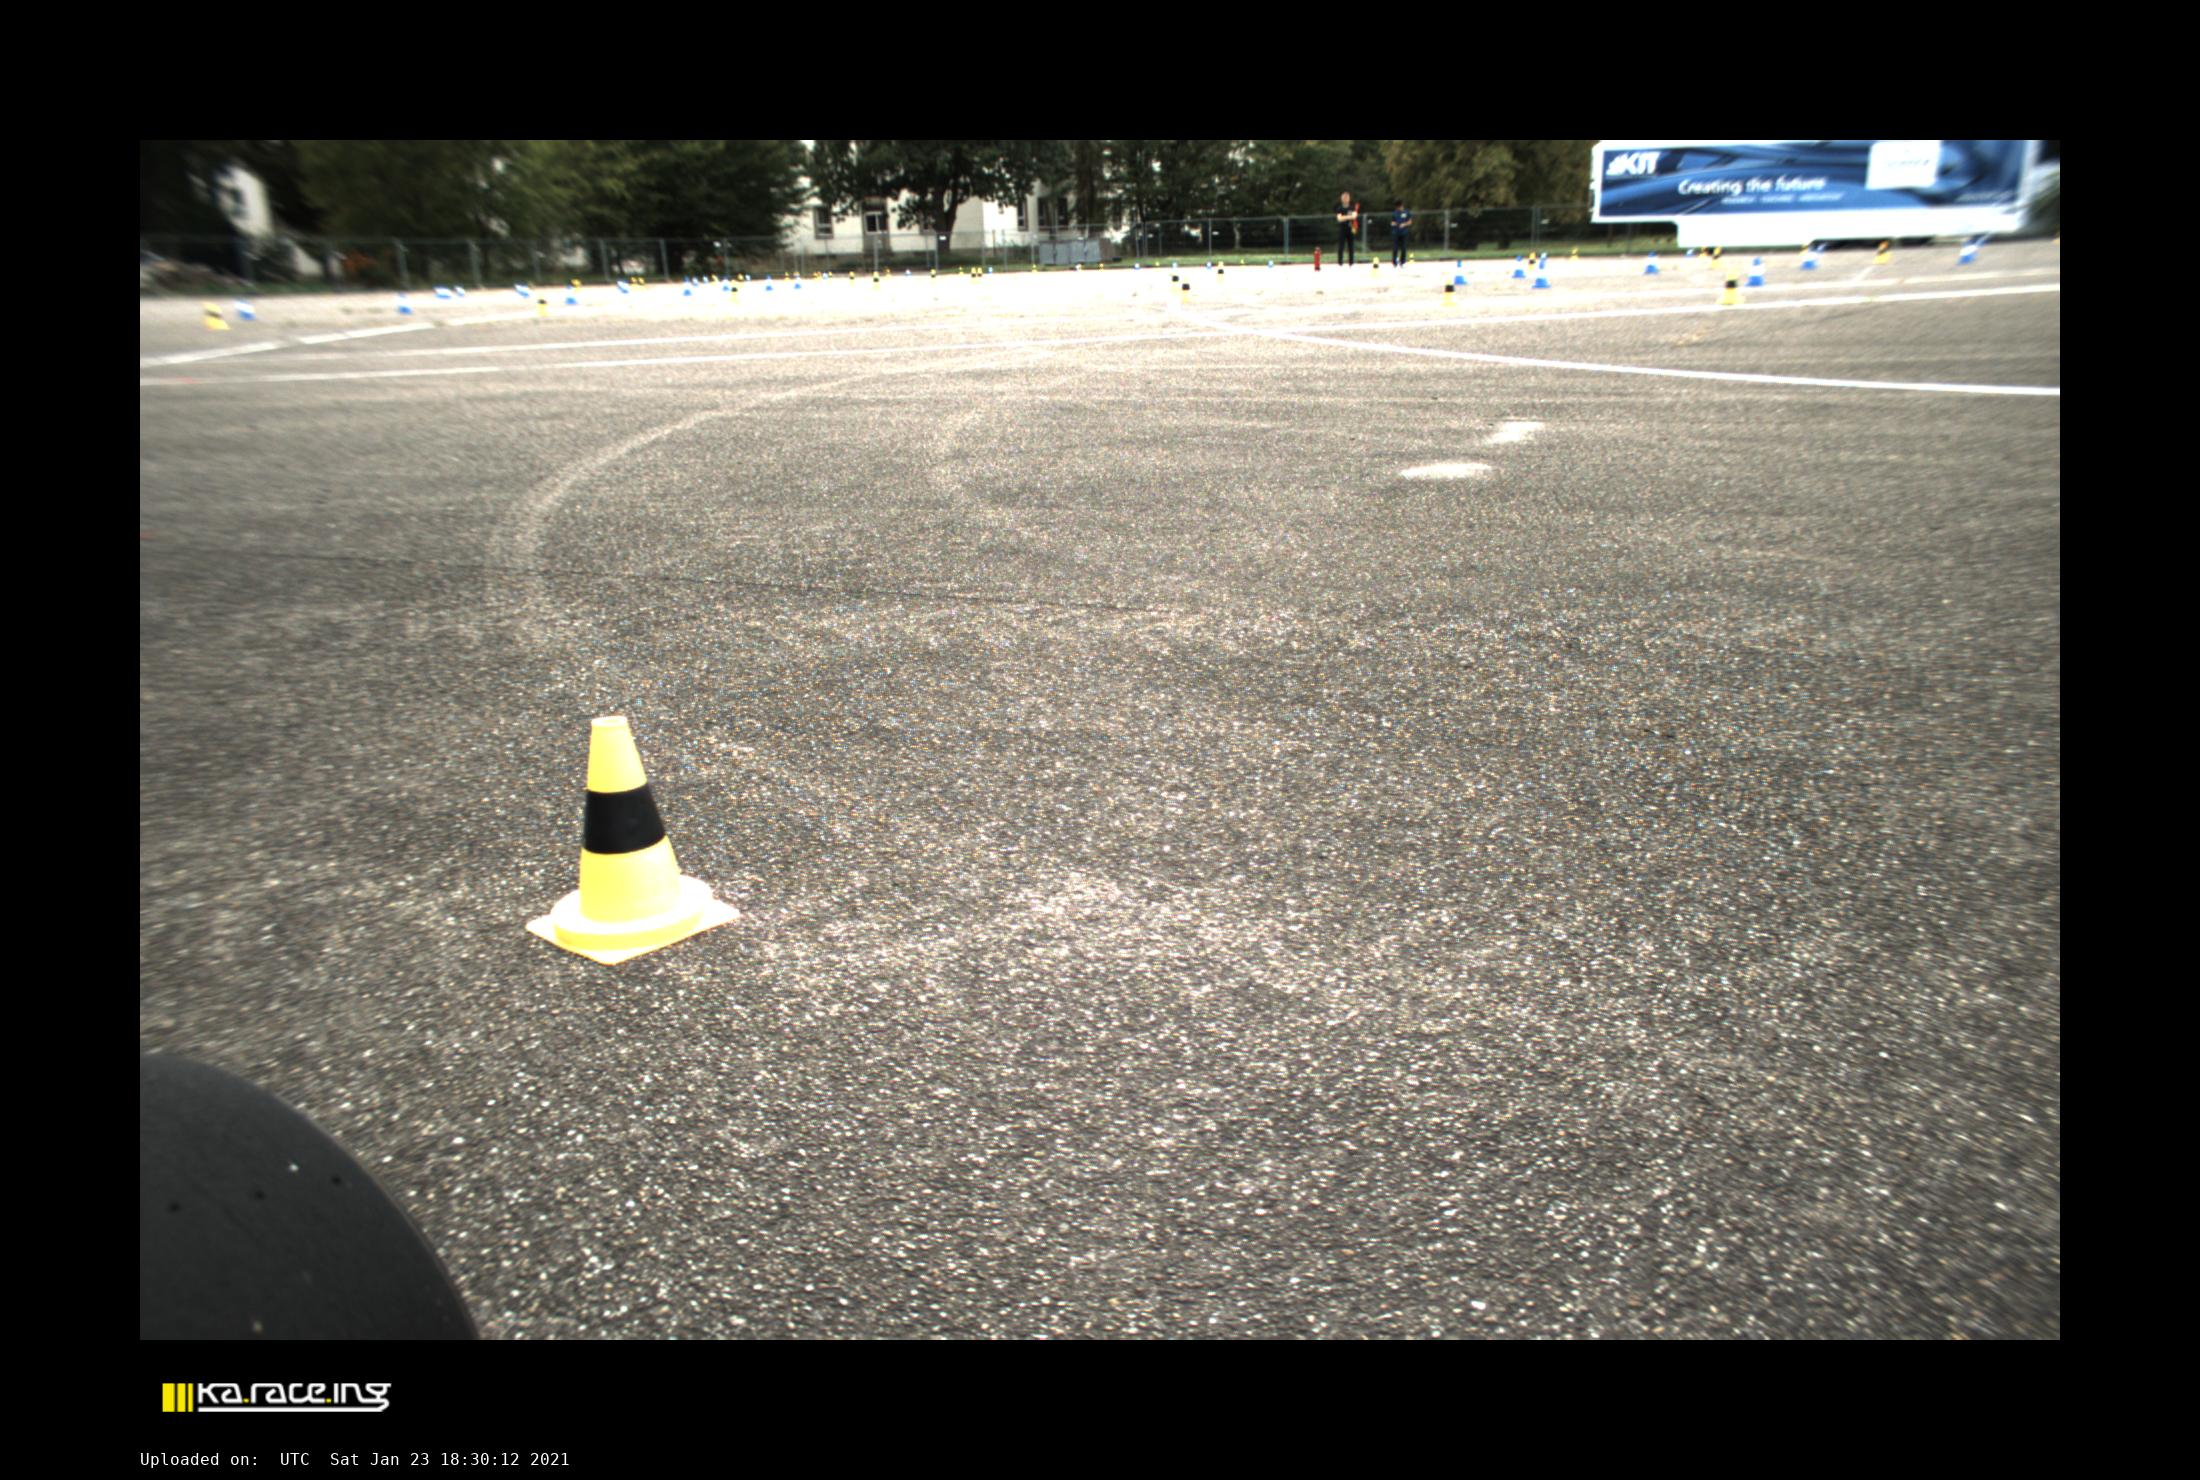blue_cone: (1744, 258, 1766, 286), (1531, 259, 1551, 287), (235, 297, 258, 320), (1956, 240, 1977, 264), (1799, 244, 1818, 269), (1511, 254, 1528, 277), (396, 292, 413, 315), (1453, 259, 1468, 284), (1643, 253, 1660, 273), (563, 286, 580, 306), (514, 282, 530, 299), (680, 276, 694, 296), (616, 277, 629, 294), (765, 274, 775, 291), (434, 284, 444, 301), (793, 274, 803, 289), (443, 286, 453, 301), (722, 276, 730, 292), (454, 286, 466, 297), (1817, 243, 1827, 254), (1685, 248, 1695, 258), (1539, 249, 1548, 261), (1169, 263, 1178, 274), (692, 274, 699, 287), (823, 269, 829, 281), (743, 274, 752, 282), (1206, 259, 1212, 269), (905, 268, 912, 277), (702, 274, 709, 284)
yellow_cone: (525, 715, 740, 965), (1714, 264, 1746, 304), (205, 302, 230, 330), (1439, 276, 1460, 307), (1871, 240, 1893, 264), (1179, 276, 1194, 302), (1708, 246, 1724, 269), (537, 292, 552, 315), (727, 281, 742, 302), (1168, 269, 1179, 292), (1369, 258, 1382, 277), (870, 271, 884, 291), (1524, 253, 1536, 273), (1216, 261, 1226, 282), (928, 269, 940, 286), (976, 268, 984, 286), (970, 268, 978, 286), (1799, 243, 1809, 258), (847, 271, 856, 287), (1569, 248, 1579, 261), (638, 277, 647, 291), (571, 279, 581, 292), (2051, 230, 2060, 244), (631, 277, 639, 292), (1698, 246, 1708, 258), (737, 273, 743, 289), (1407, 253, 1415, 264), (958, 264, 965, 277), (1239, 259, 1245, 271), (1031, 263, 1037, 274), (813, 271, 819, 282), (785, 271, 791, 282), (885, 269, 892, 279), (793, 271, 799, 281), (1155, 261, 1159, 273), (827, 271, 832, 282), (818, 271, 823, 281)
